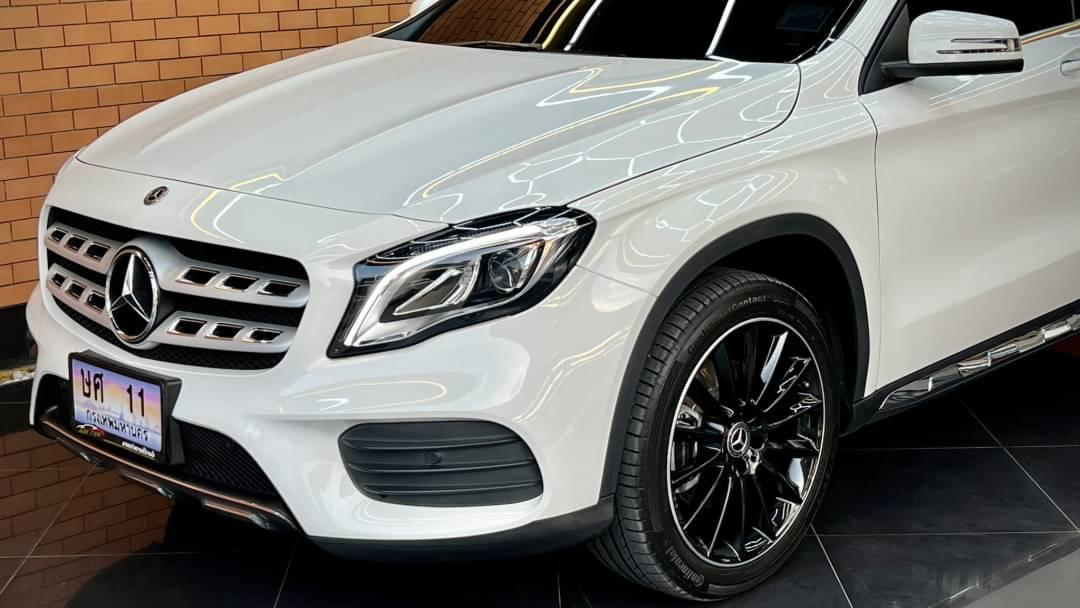license-plate: (64, 347, 179, 476)
